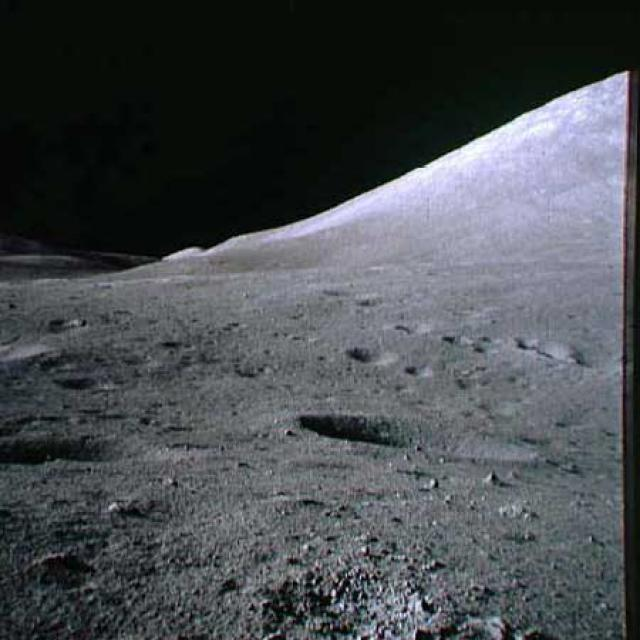crater: (291, 396, 554, 475), (4, 427, 223, 477), (510, 330, 633, 376), (55, 361, 146, 395), (41, 303, 141, 332), (342, 339, 407, 373)
